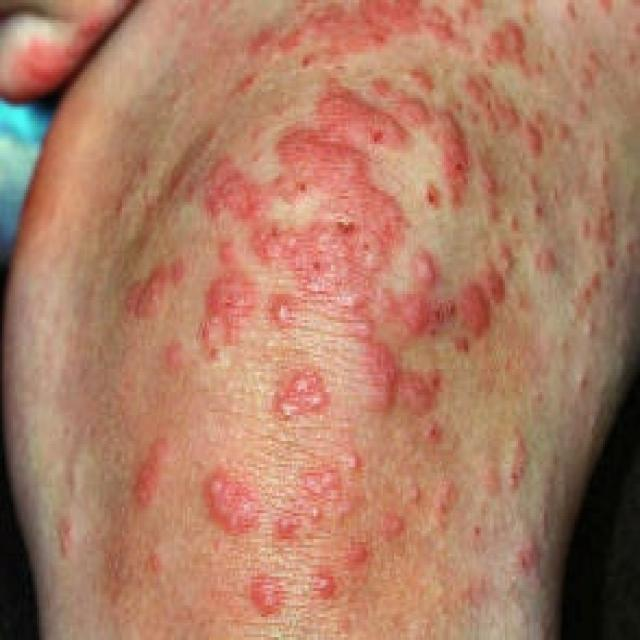Warts-Molluscum-and-other-Viral-Infections: (139, 7, 522, 625)
